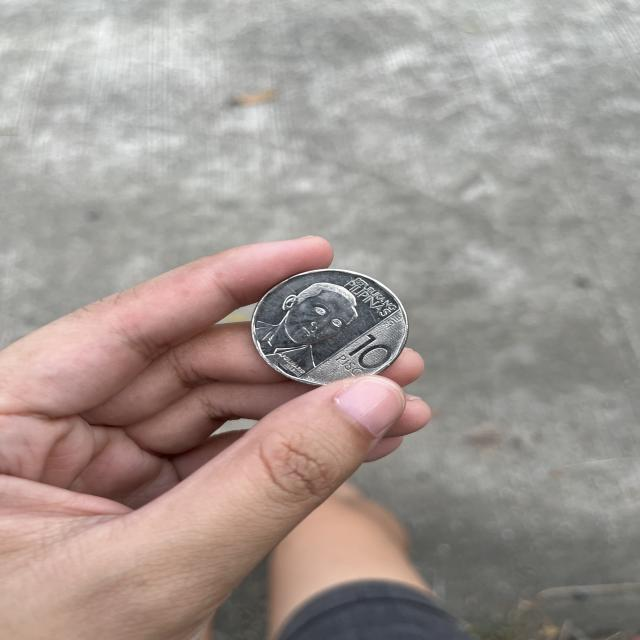10_New_Front: (333, 332, 397, 376)
